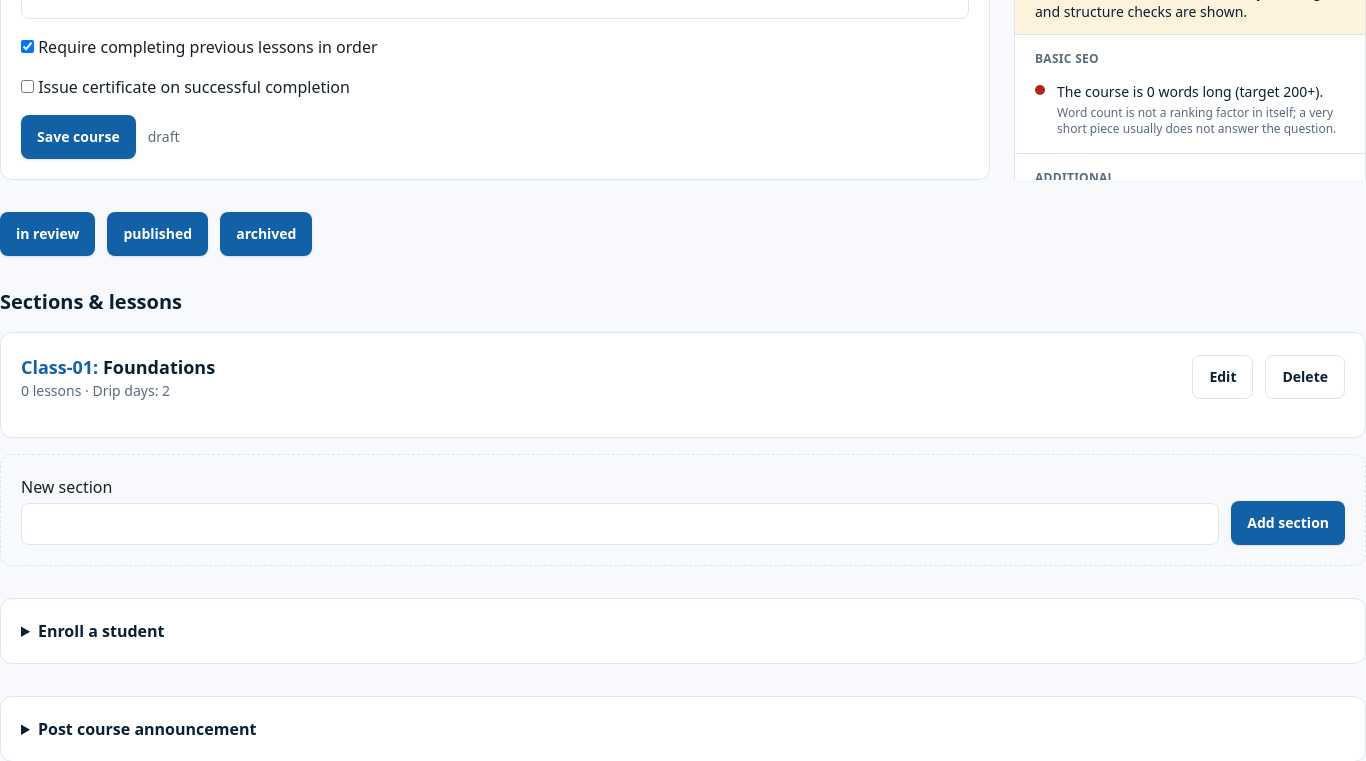
Test: opens the selected section for editing and saves the title and drip days
(page scrolled)
Click the button with aria-label "Edit section: Foundations" at point(1223, 377), box [1192,355,1254,399]
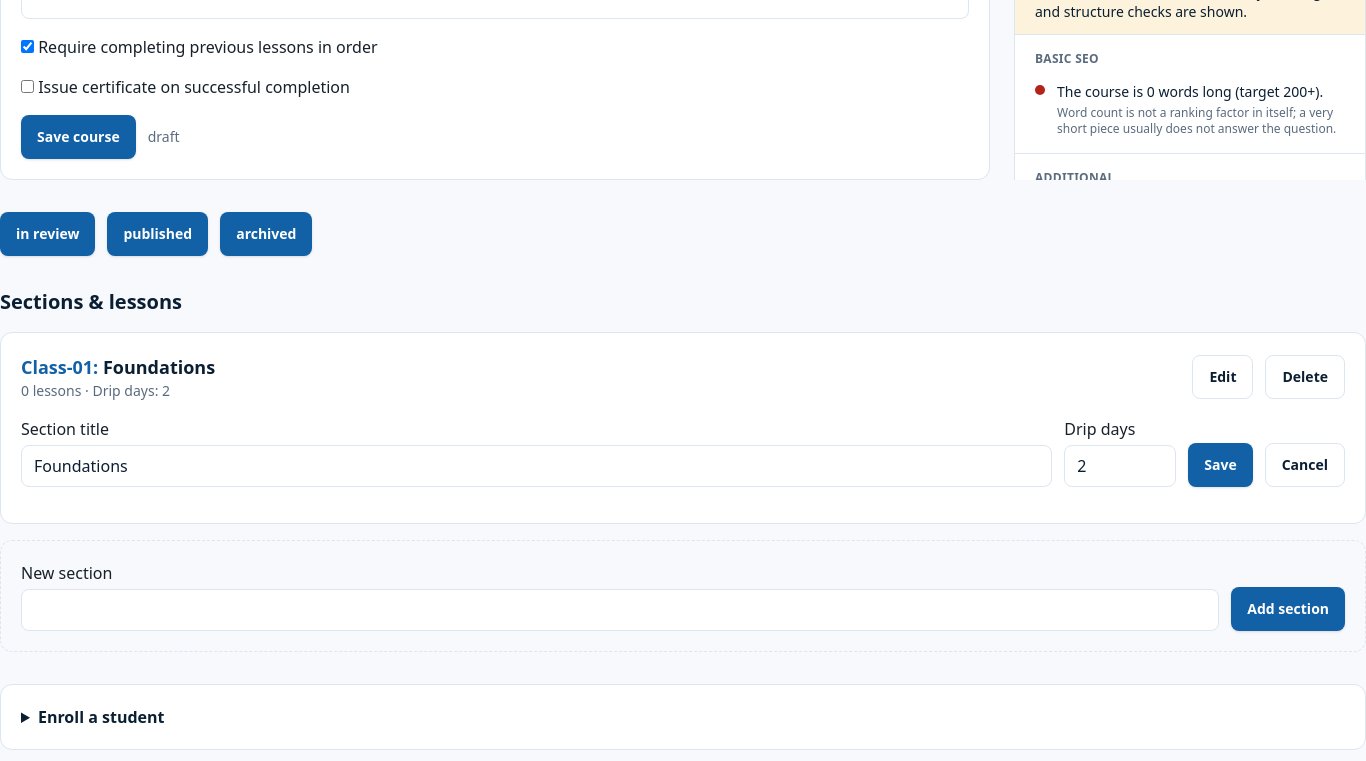
Replace the text in the field labelled "Section title" with "Updated foundations" at point(537, 466), box [21,445,1052,487]
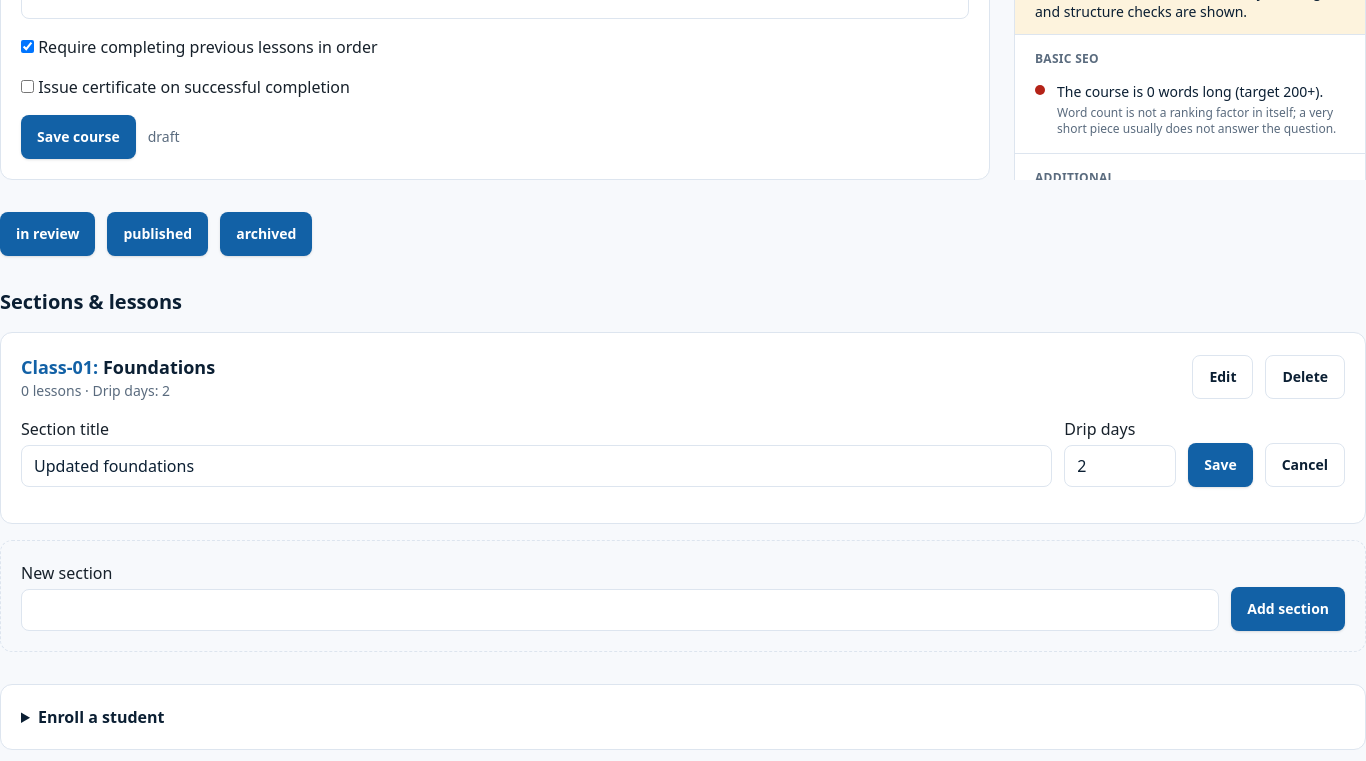
Replace the text in the number field labelled "Drip days" with "5" at point(1120, 466), box [1064,445,1176,487]
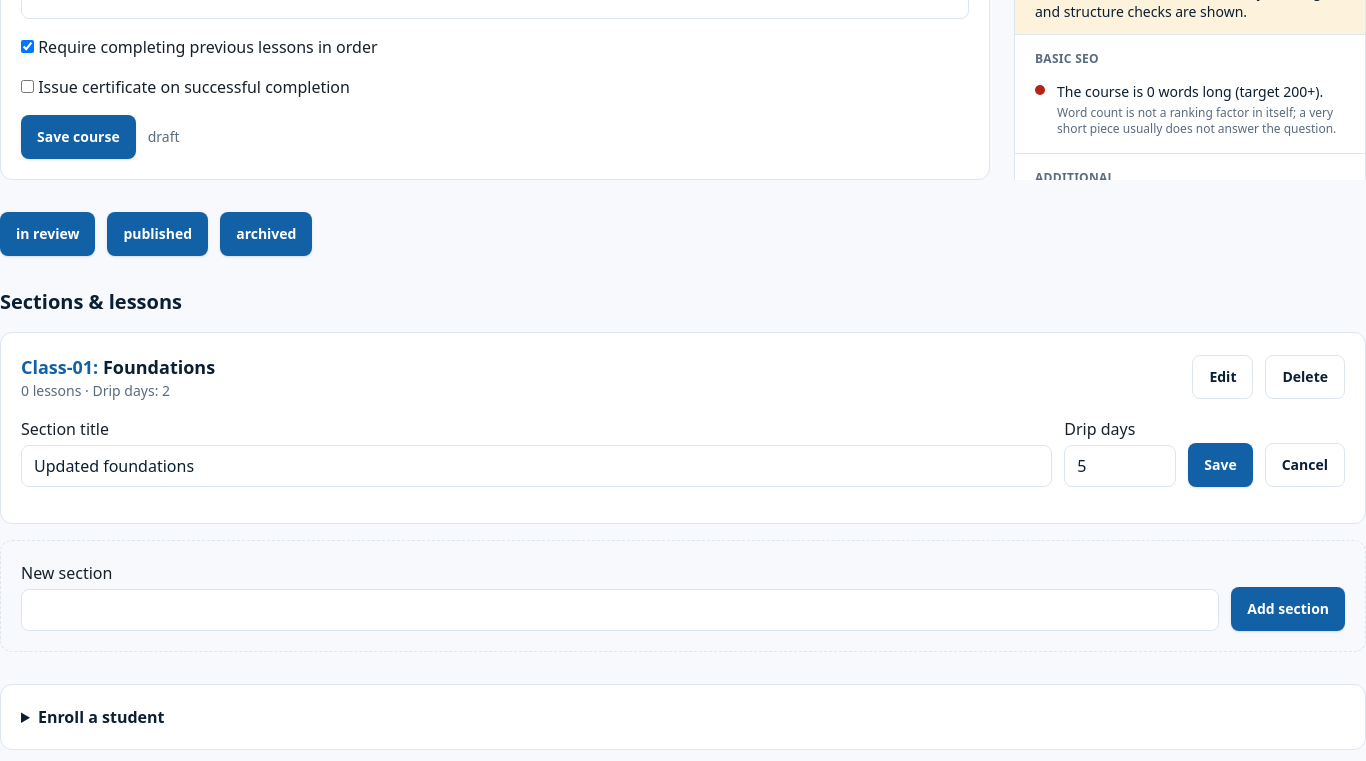
Click the button "Save" at point(1220, 465), box [1188,443,1253,487]
(page scrolled)
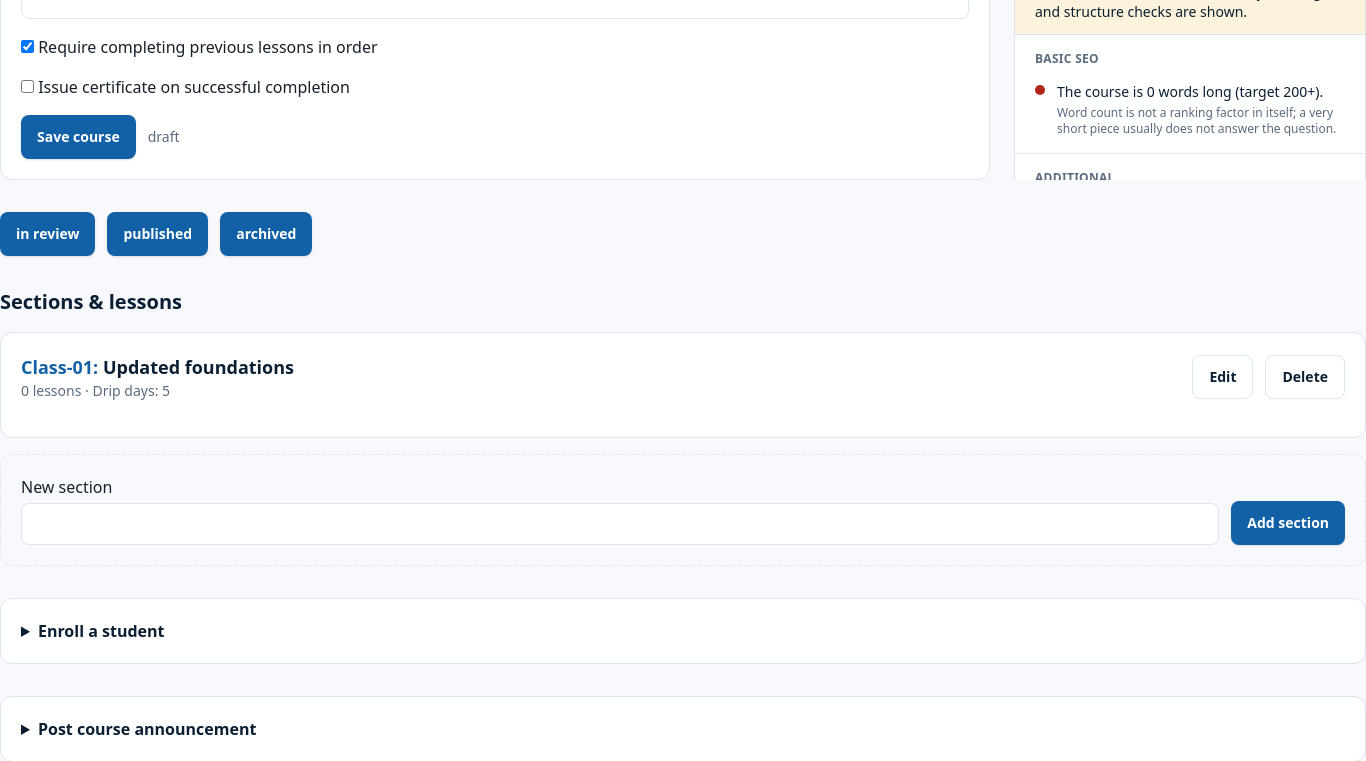
Result: the heading "Class-01: Updated foundations" is shown at [21,353,294,381]
